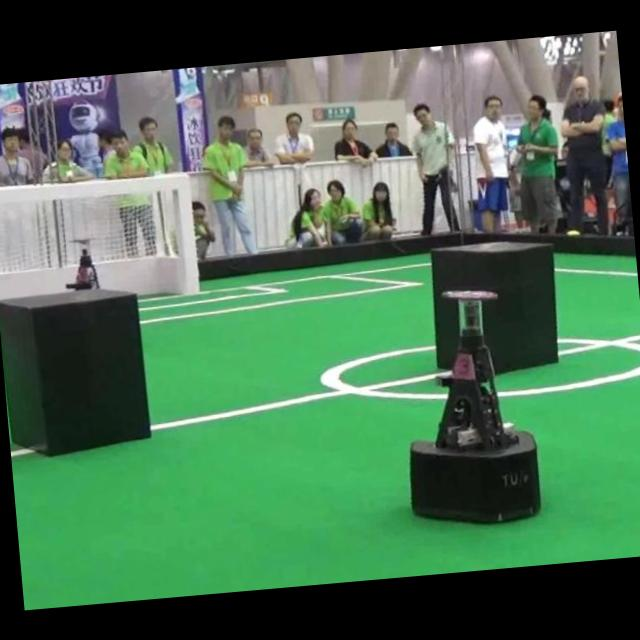goal: (173, 173, 198, 292)
robot: (410, 290, 541, 522)
